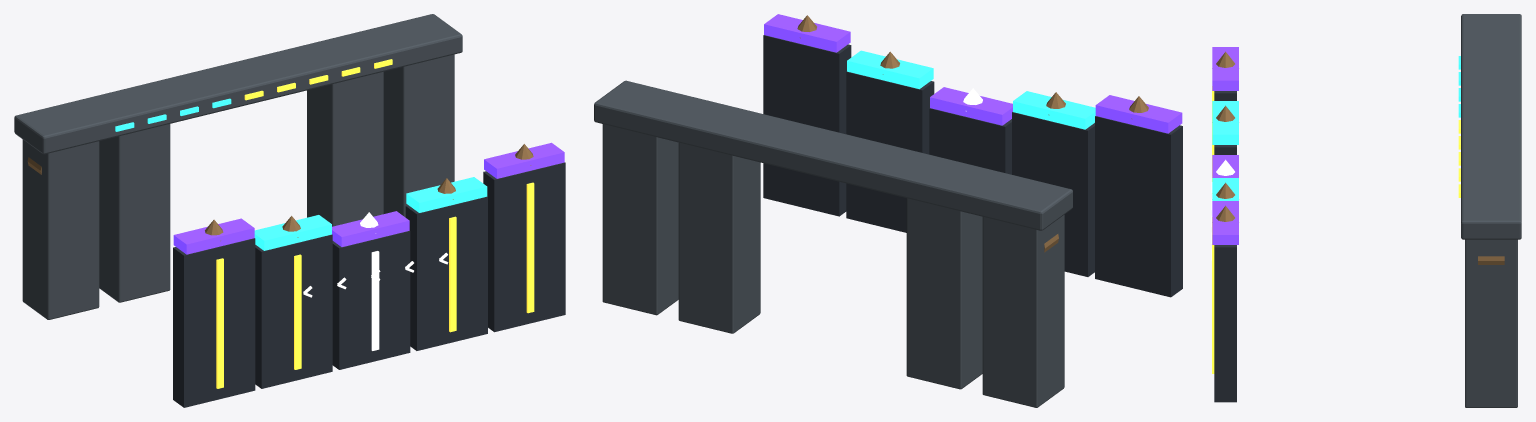
File: 07_tide_wall.glb
3 renders of one model, left to right at view 1: azimuth 30°, elevation 25°; view 2: azimuth 150°, elevation 25°; view 3: azimuth 270°, elevation 25°, orthographic. The views are drawn at different scales.
Visible parts, largest first — view 1: tide_arch_top, tide_pillar_0, tide_pillar_1, tide_panel_0, tide_panel_4, tide_pillar_4, tide_panel_3, tide_panel_1, tide_pillar_5, tide_panel_2, tide_crest_3_nocol, tide_crest_0_nocol (+8 smaller); view 2: tide_arch_top, tide_pillar_0, tide_pillar_4, tide_panel_0, tide_pillar_1, tide_pillar_5, tide_panel_4, tide_panel_1, tide_panel_3, tide_panel_2, tide_crest_0_nocol, tide_crest_3_nocol (+3 smaller); view 3: tide_arch_top, tide_pillar_5, tide_panel_4, tide_crest_0_nocol, tide_crest_4_nocol, tide_crest_1_nocol, tide_crest_3_nocol, tide_crest_2_nocol, tide_face_rib_4_nocol.
Boxes of the visible parts, x1,y1,x2,y2 form: tide_arch_top: (14,14,462,154); tide_pillar_0: (22,139,99,319); tide_pillar_1: (99,124,170,302); tide_panel_0: (173,238,255,407); tide_panel_4: (483,162,565,332); tide_pillar_4: (307,72,383,226); tide_panel_3: (405,196,487,350); tide_panel_1: (255,234,332,388); tide_pillar_5: (383,54,454,217); tide_panel_2: (332,230,410,369); tide_crest_3_nocol: (406,177,487,212); tide_crest_0_nocol: (173,218,254,254); tide_arch_top: (594,80,1072,230); tide_pillar_0: (982,215,1064,407); tide_pillar_4: (678,142,760,333); tide_panel_0: (1095,116,1182,297); tide_pillar_1: (906,198,982,389); tide_pillar_5: (602,124,678,315); tide_panel_4: (763,35,851,216); tide_panel_1: (1012,112,1094,276); tide_panel_3: (846,71,934,232); tide_panel_2: (929,108,1011,174); tide_crest_0_nocol: (1095,95,1182,133); tide_crest_3_nocol: (847,50,933,89); tide_arch_top: (1461,14,1521,239); tide_pillar_5: (1465,239,1517,407); tide_panel_4: (1214,245,1236,402); tide_crest_0_nocol: (1212,47,1238,90); tide_crest_4_nocol: (1212,201,1238,244); tide_crest_1_nocol: (1212,101,1238,144); tide_crest_3_nocol: (1212,178,1238,200); tide_crest_2_nocol: (1212,155,1238,177); tide_face_rib_4_nocol: (1212,240,1214,373).
Size of the model in its own units: 26 by 11.05 by 16.36.
